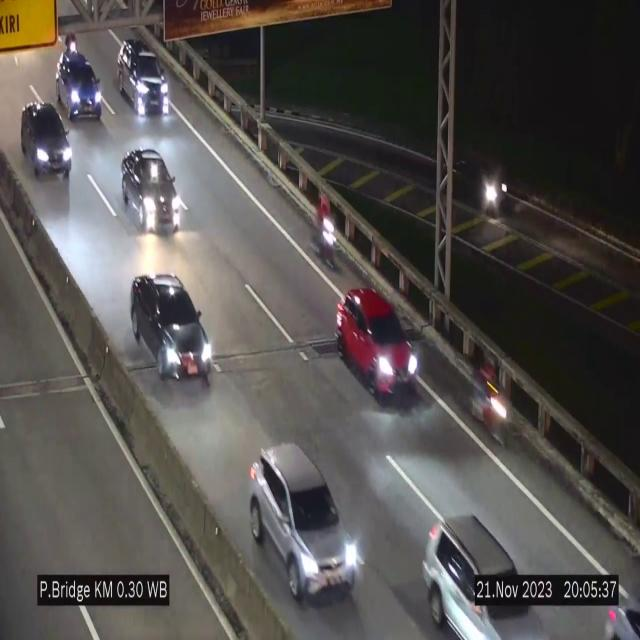Car: (248, 443, 363, 599), (336, 286, 420, 398), (131, 274, 213, 382), (125, 145, 183, 241), (19, 99, 77, 193), (52, 48, 106, 130), (117, 37, 169, 115)
Motorcycle: (473, 345, 511, 451), (315, 195, 343, 276), (64, 28, 80, 57)
